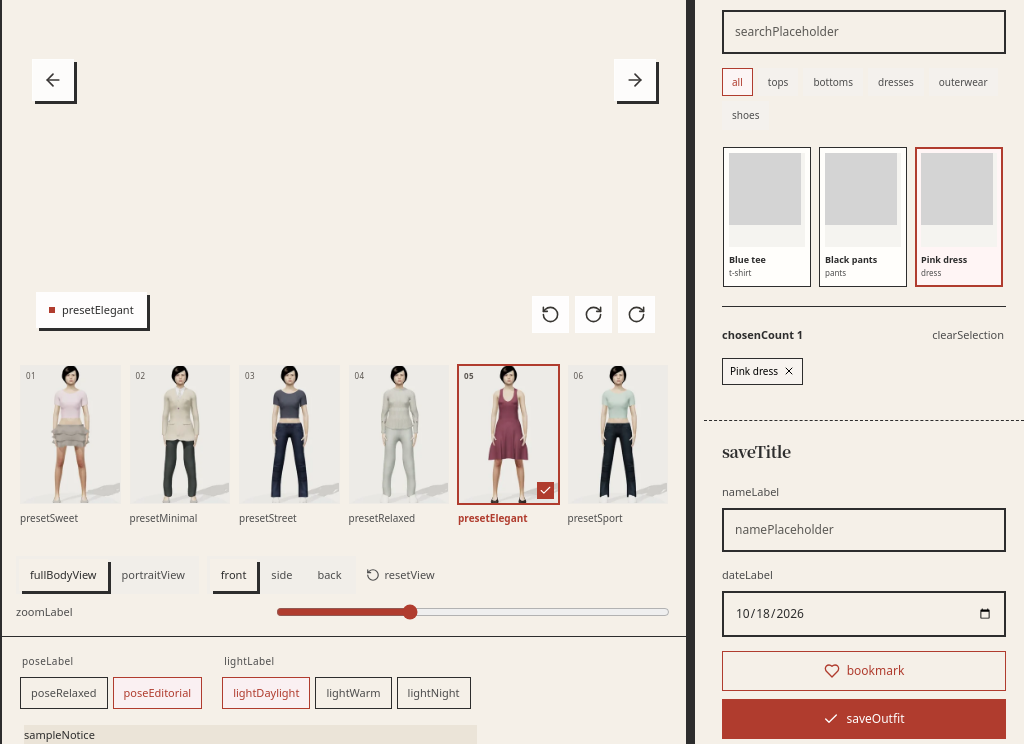
Test: 3D avatar workspace › keeps a selected real dress on a model that can display it
(page scrolled)
What coordinates should you click on to do the following:
click the button with aria-label "removeItem Pink dress"
I would click on:
 (763, 371)
Its box is [722,358,803,385].
(page scrolled)
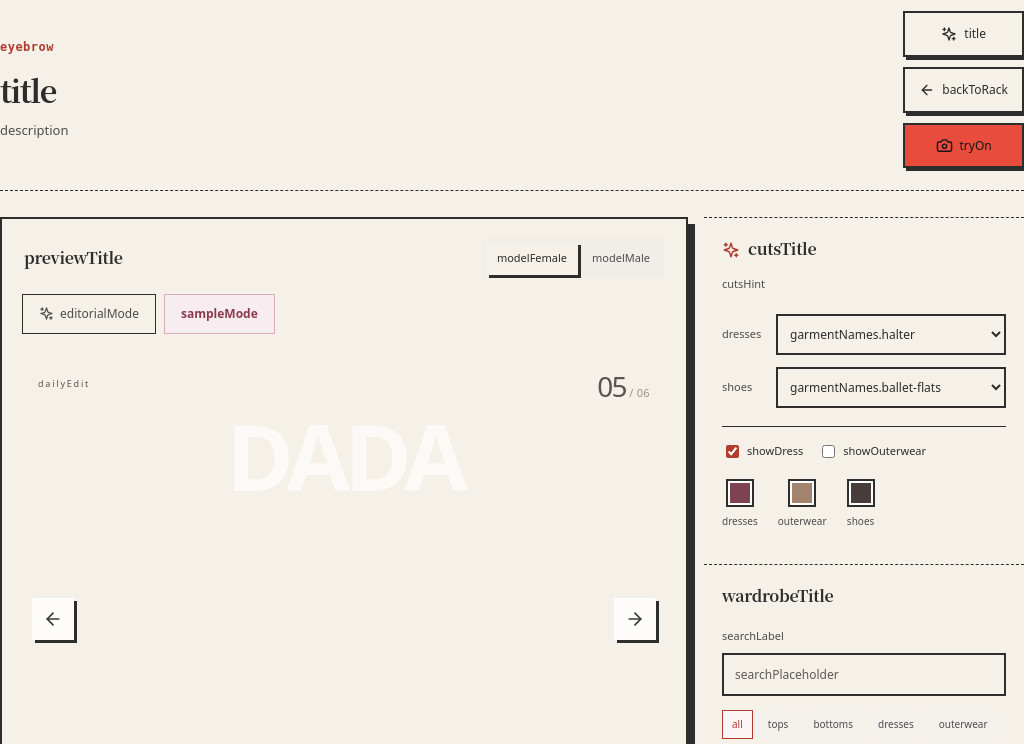
Now the button "modelMale" is enabled, box [581,242,661,274]
